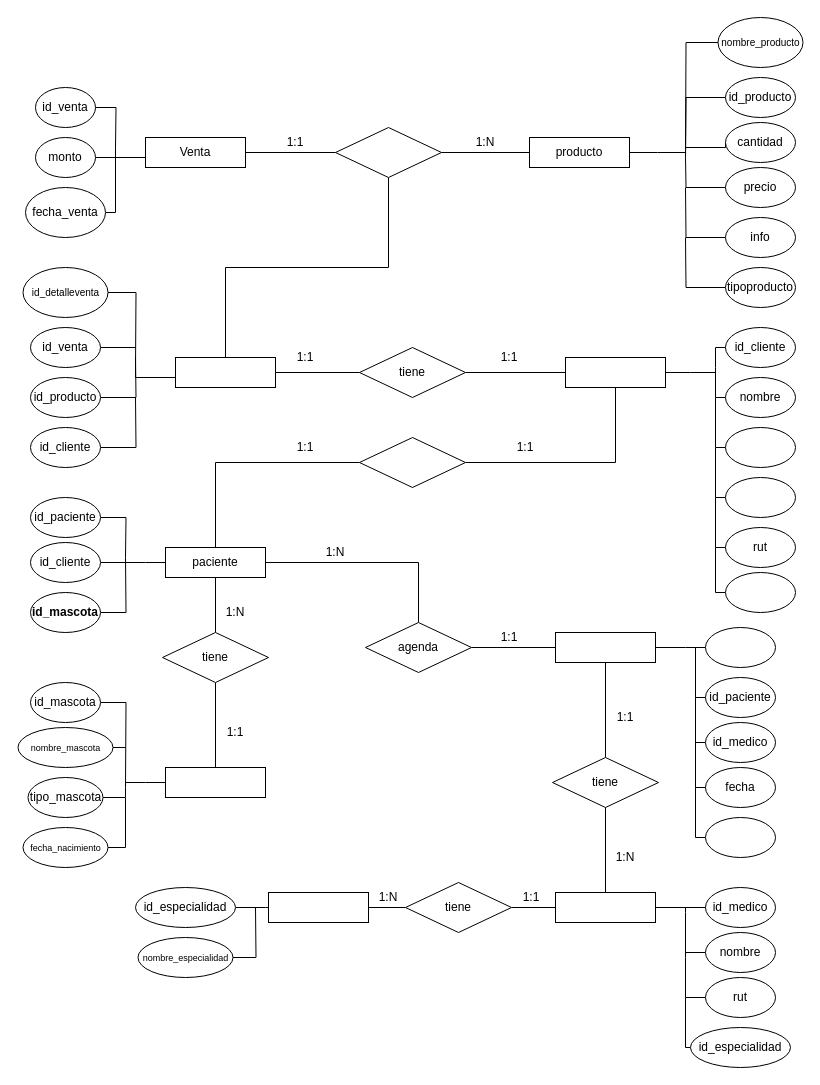
The diagram is 820 pixels wide and 1085 high, and some of its shapes have lost their labels. Each missing label, with the box of its shape:
apellido: (724, 426, 796, 468)
cliente: (564, 356, 666, 388)
consulta: (554, 632, 656, 662)
detalledeventa: (174, 356, 276, 388)
direccion: (724, 476, 796, 518)
email: (724, 572, 796, 612)
especialidad: (268, 892, 368, 922)
hora: (704, 816, 776, 858)
id_consulta: (704, 626, 776, 668)
integra: (358, 436, 466, 488)
Integran: (334, 126, 442, 178)
mascota: (164, 766, 266, 798)
medico: (554, 892, 656, 922)
